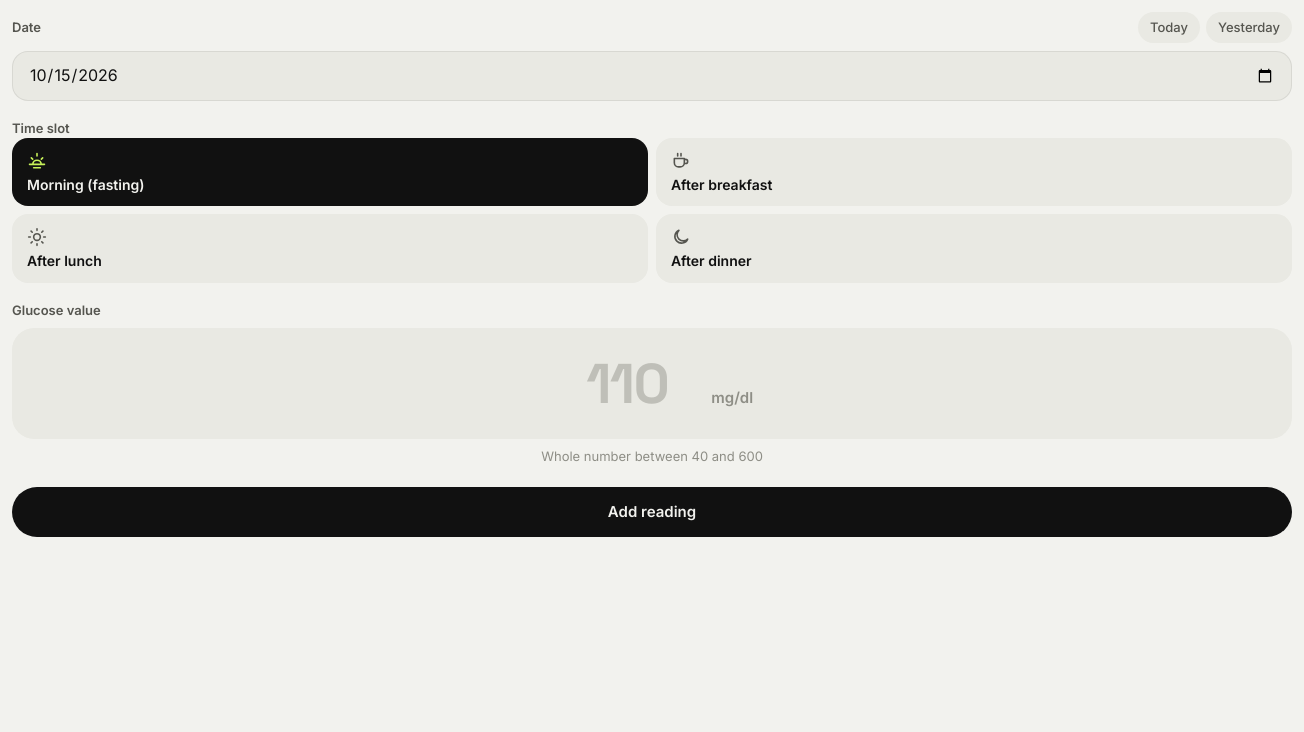
it: rejects values outside 40-600
In the number field labelled "Glucose value": coordinates (627, 384) 551,348 -> 703,419, type "700"
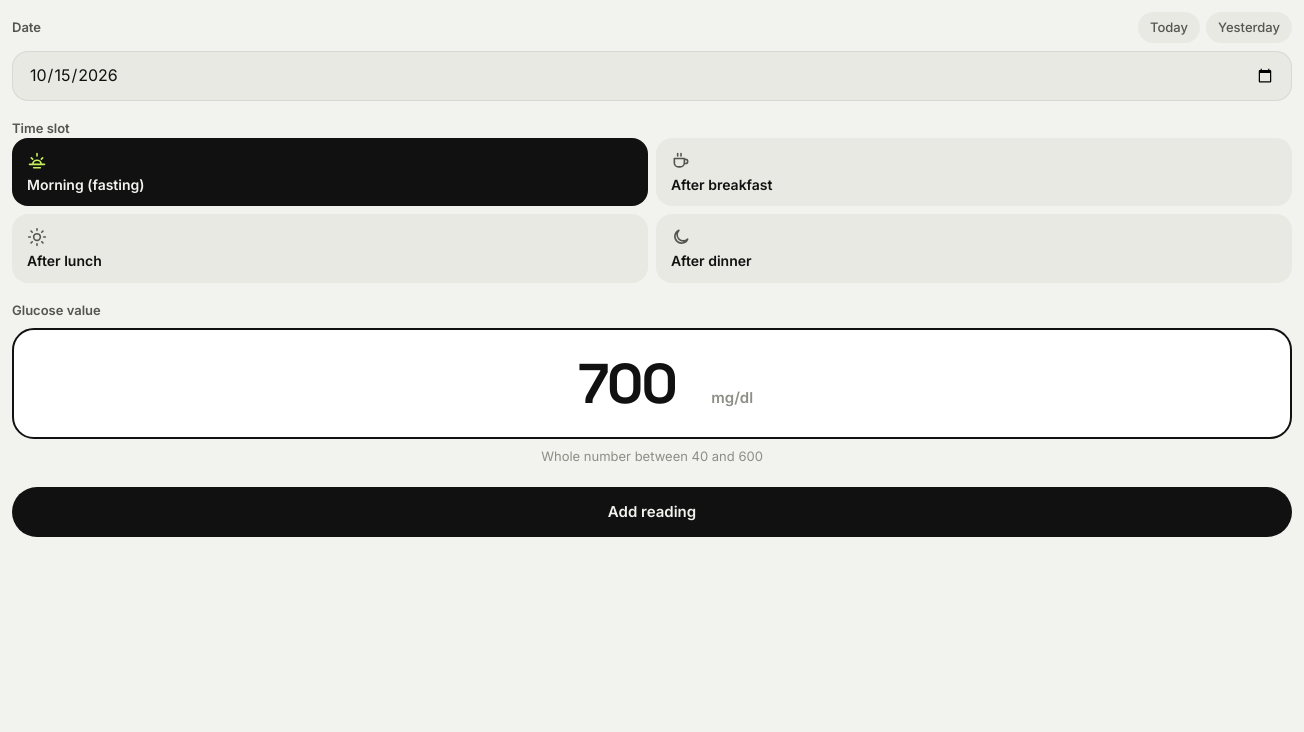
Click the button "Add reading": coordinates (652, 512) 12,487 -> 1292,537
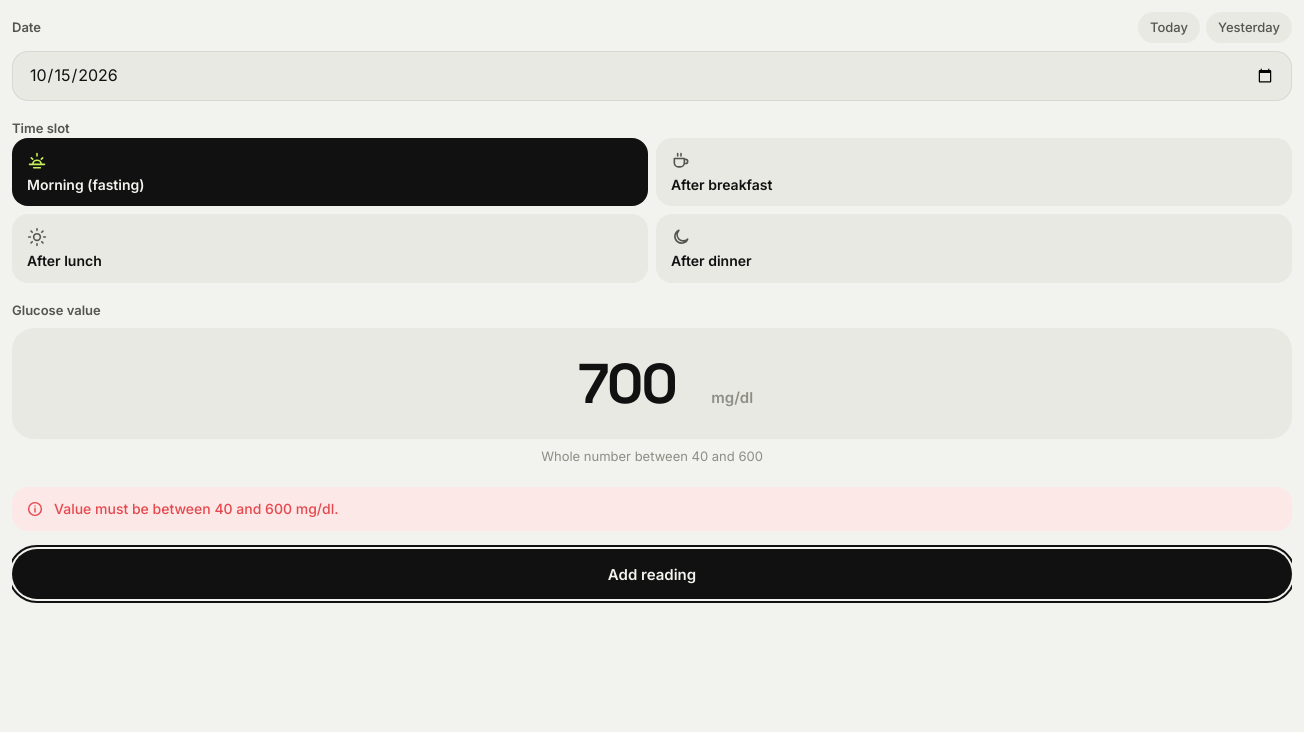
Expected: the message reads "Value must be between 40 and 600 mg/dl.", 54,500 -> 338,517
